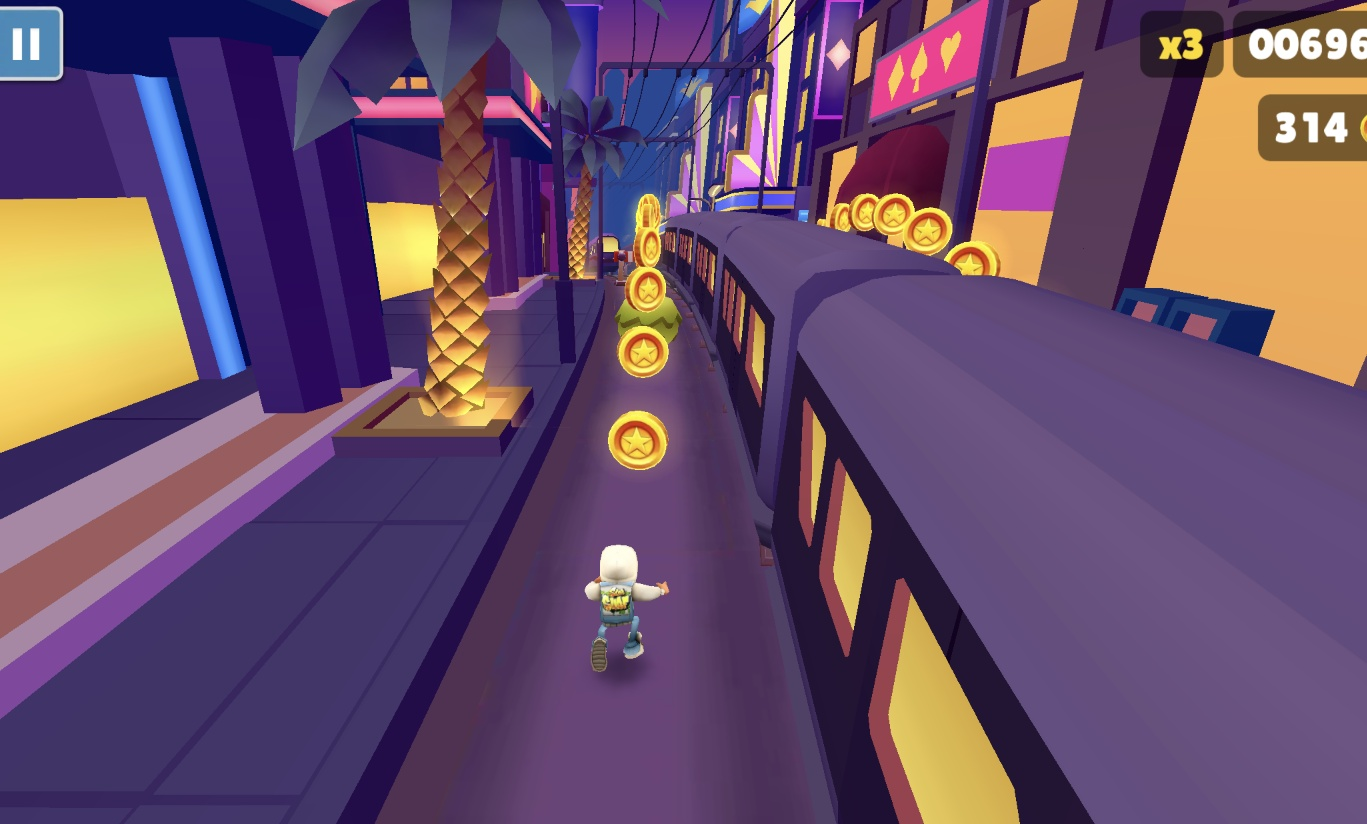bush: (616, 299, 681, 344)
ground_barrier: (610, 250, 640, 282)
train: (664, 212, 1367, 824), (600, 236, 621, 275)
